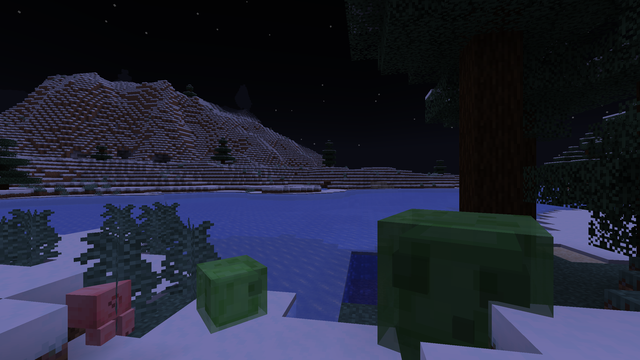cochons: (54, 273, 134, 351)
slimes: (387, 205, 588, 354), (187, 254, 266, 337)
